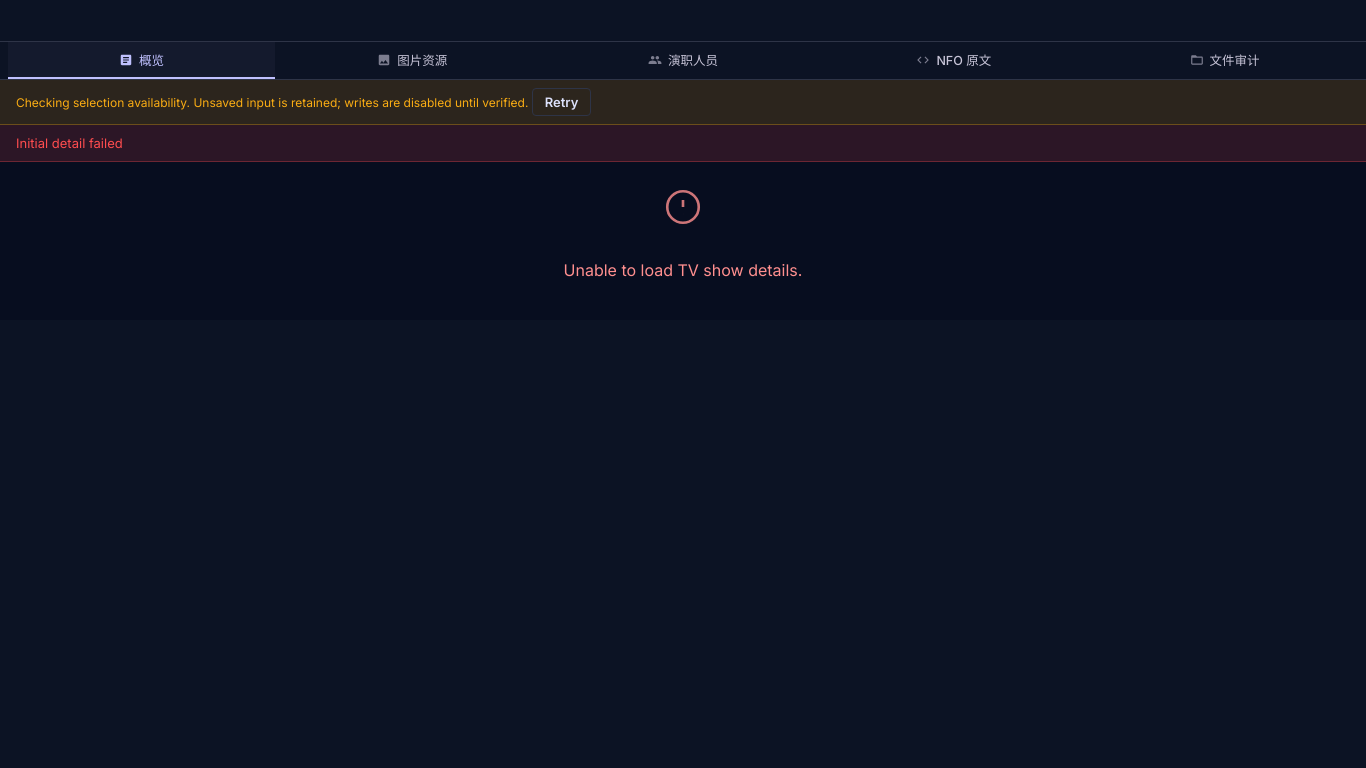
it: TVShowInspector first-load selection ownership › recovers pristine detail after initial failure, failed selection check and Retry
Click the button "Retry" at (562, 102), box [532,88,591,116]
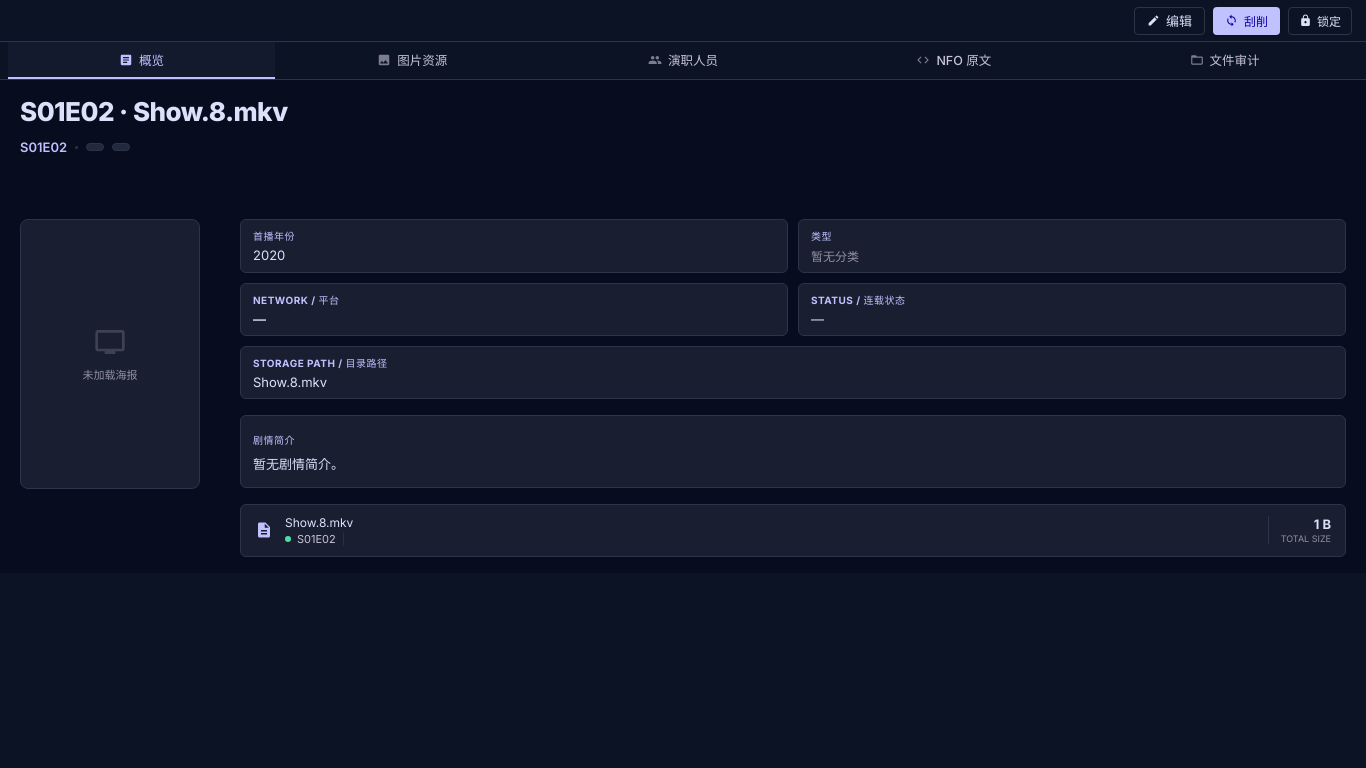
Result: the element that starts with "S01E02 · Show.8.mkv" is shown at [20,96,1346,557]
Result: the text "Show.8.mkv" below "STORAGE PATH / 目录路径" is shown at [253,374,327,390]
Result: the text "Initial detail failed" is gone
